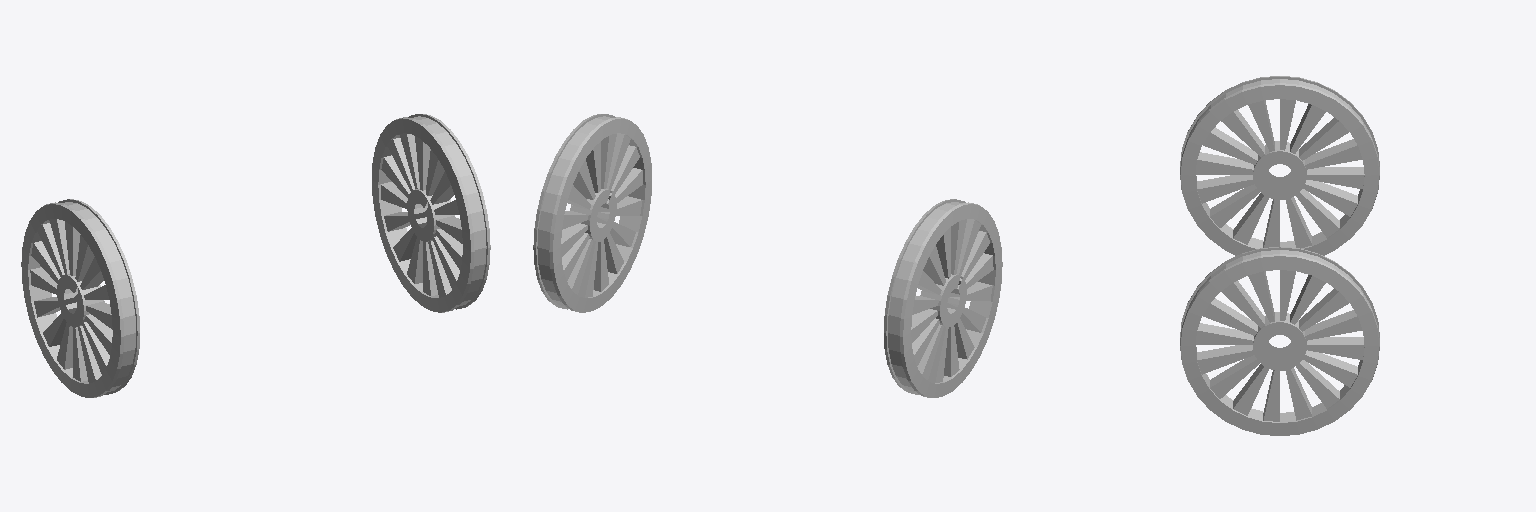
Rendered from train_roues1_obj.obj.
3 renders of one model, left to right at view 1: azimuth 30°, elevation 25°; view 2: azimuth 150°, elevation 25°; view 3: azimuth 270°, elevation 25°, orthographic.
Visible parts, largest first — view 1: pCylinder244_blinnBlack_0; view 2: pCylinder244_blinnBlack_0; view 3: pCylinder244_blinnBlack_0.
Part boxes in pixels (x1,y1,x2,y2): pCylinder244_blinnBlack_0: (21,114,490,397); pCylinder244_blinnBlack_0: (533,114,1002,397); pCylinder244_blinnBlack_0: (1180,76,1379,435).
Bounding box in the file's own units: 38.37 × 17.95 × 17.95.